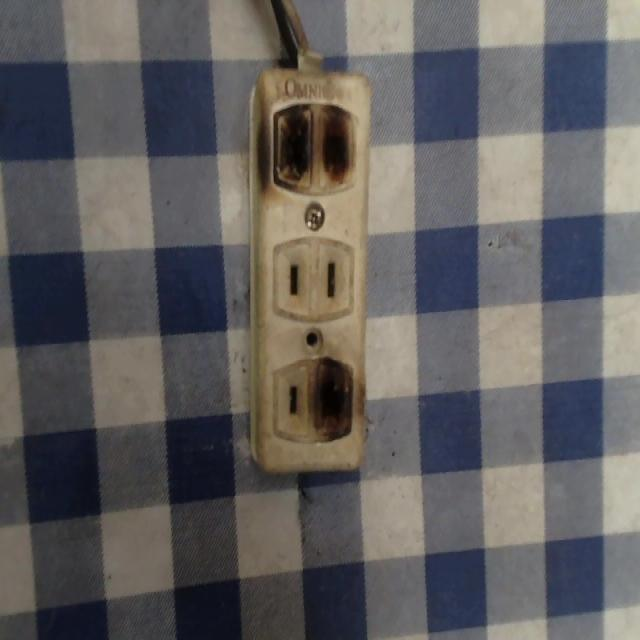-: (252, 95, 361, 201), (303, 351, 370, 452)
